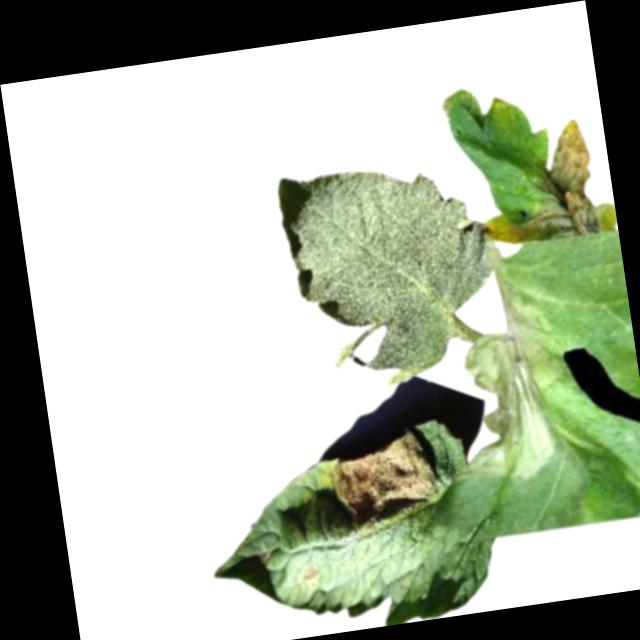Late_blight: (434, 255, 583, 488), (473, 113, 616, 248), (326, 431, 443, 533), (299, 564, 323, 586)
